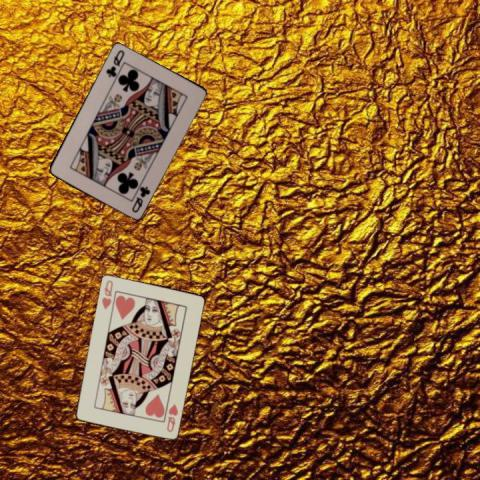Qc: (103, 47, 126, 78), (129, 183, 151, 214)
Qh: (164, 401, 180, 433), (99, 277, 114, 310)
